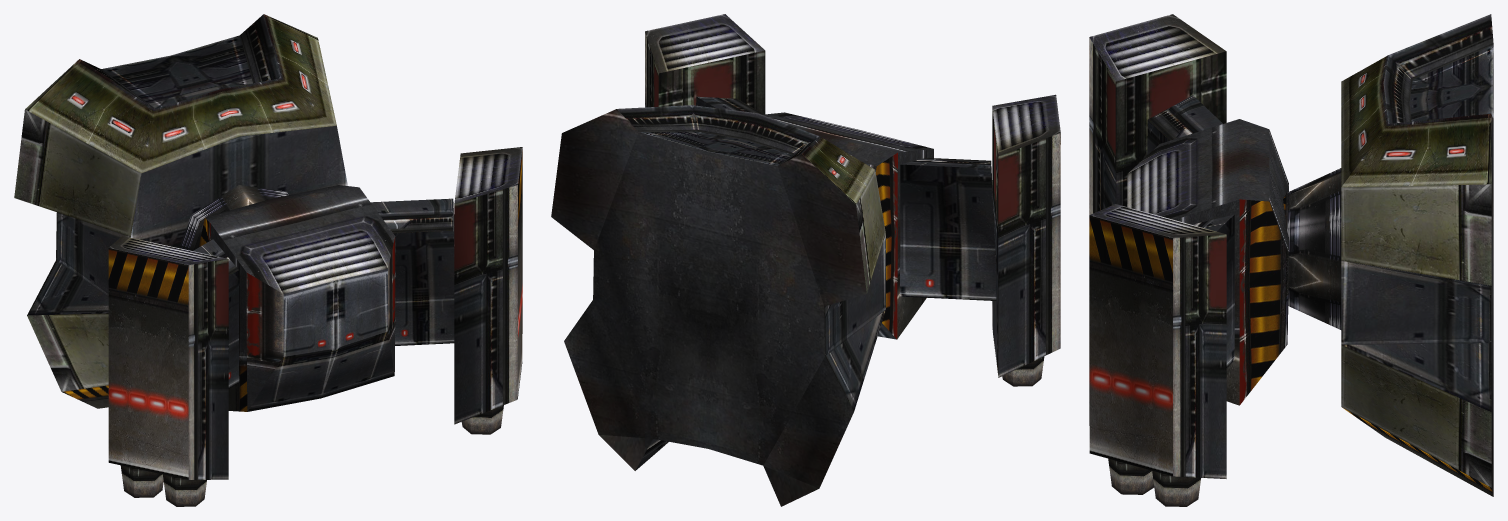
Rendered from r-launcher-04.obj.
The picture shows the model from 3 angles, left to right: view 1: azimuth 30°, elevation 25°; view 2: azimuth 150°, elevation 25°; view 3: azimuth 270°, elevation 25°; orthographic projection. The views are drawn at different scales.
Visible parts, largest first — view 1: body, head, gun_01, gun_02; view 2: body, gun_01, gun_02, head; view 3: body, gun_02, head, gun_01.
Part boxes in pixels (x1,y1,x2,y2): body: (14, 14, 347, 408); head: (198, 185, 395, 411); gun_01: (108, 236, 239, 506); gun_02: (370, 147, 522, 434); body: (551, 105, 885, 506); gun_01: (900, 94, 1060, 386); gun_02: (645, 14, 765, 114); head: (762, 112, 933, 339); body: (1283, 14, 1493, 496); gun_02: (1089, 204, 1234, 506); head: (1127, 119, 1288, 405); gun_01: (1089, 14, 1226, 214).
Bounding box in the file's own units: 4.51 × 3.7 × 3.44.
Materials: 1 (1 with a texture image).
